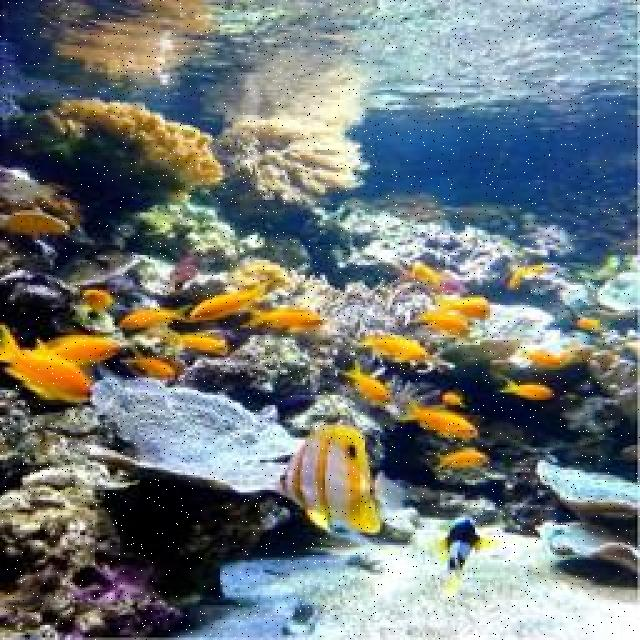fish: (274, 428, 381, 536), (0, 333, 96, 403), (430, 510, 501, 594), (400, 392, 484, 437), (191, 282, 270, 318), (354, 333, 437, 363), (59, 255, 144, 284), (0, 203, 73, 236), (242, 303, 330, 329), (341, 362, 396, 401), (51, 336, 128, 363), (116, 304, 194, 330), (122, 350, 177, 380), (436, 294, 491, 323), (415, 308, 466, 335), (496, 375, 551, 400), (435, 446, 488, 471), (169, 335, 230, 351), (79, 288, 119, 309), (413, 263, 444, 287), (517, 350, 563, 365), (509, 255, 528, 286), (577, 317, 601, 332), (445, 391, 463, 405)
reefs: (73, 376, 304, 494), (315, 199, 575, 288), (31, 100, 228, 202), (213, 113, 376, 203), (535, 460, 638, 578), (128, 204, 269, 264), (596, 273, 638, 309)
sea-floor: (0, 382, 176, 638)
